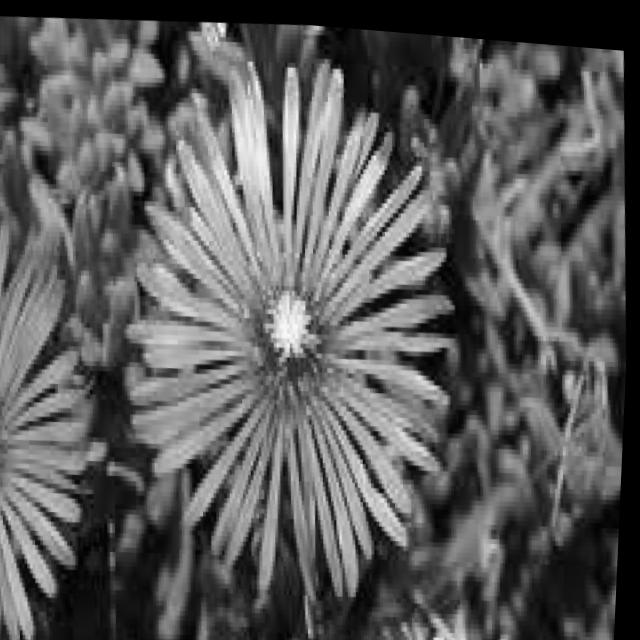Flower: (115, 31, 473, 584), (0, 203, 116, 640)
